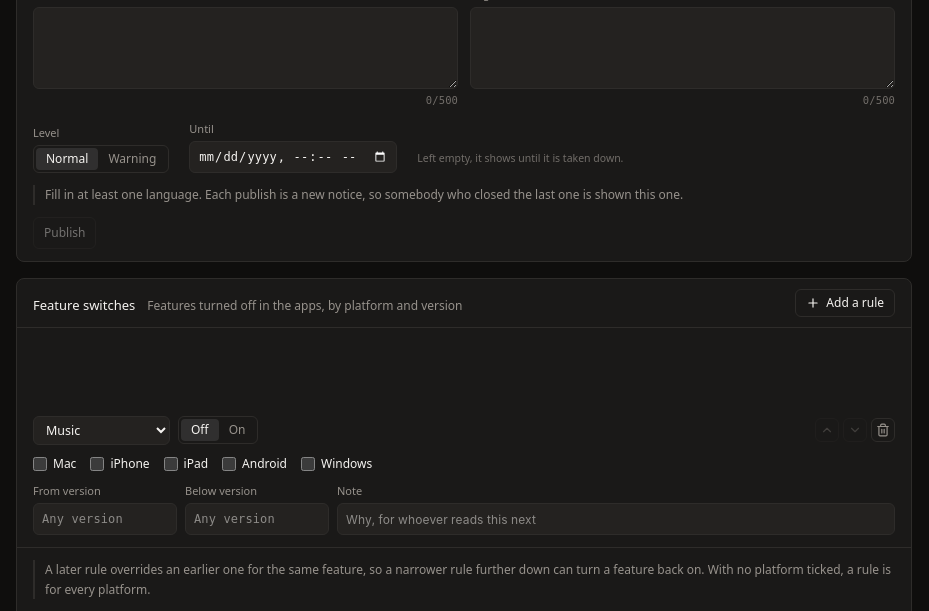
Scenario: the feature switches › are not saved with a version that is not one, and say when a range holds none
(page scrolled)
Type "next" into the field labelled "From version".
click(105, 519); type("next")  # box [33,503,177,535]
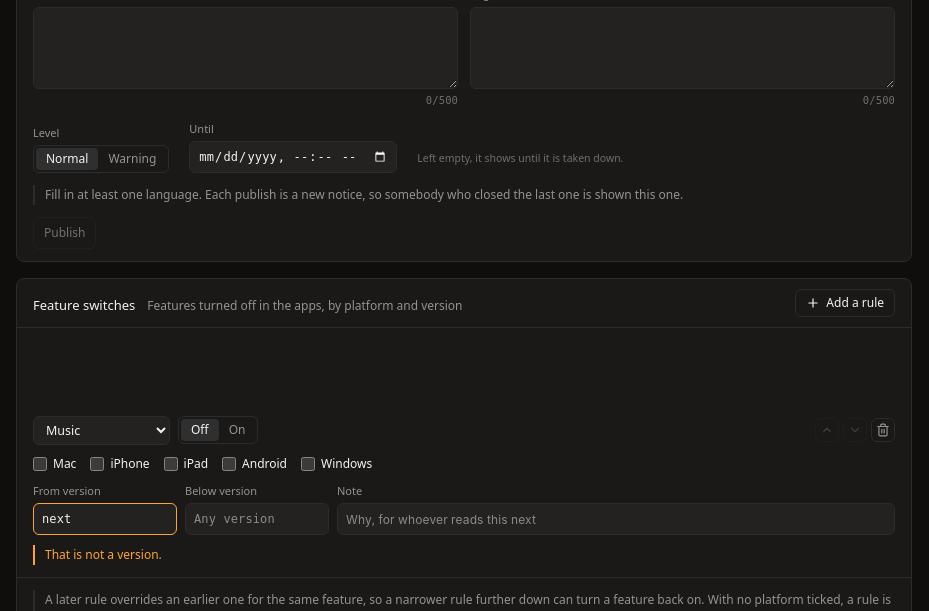
Result: the text "That is not a version." is shown at [33,545,895,564]
Replace the text in the field labelled "From version" with "0.1.5" at point(105, 519), box [33,503,177,535]
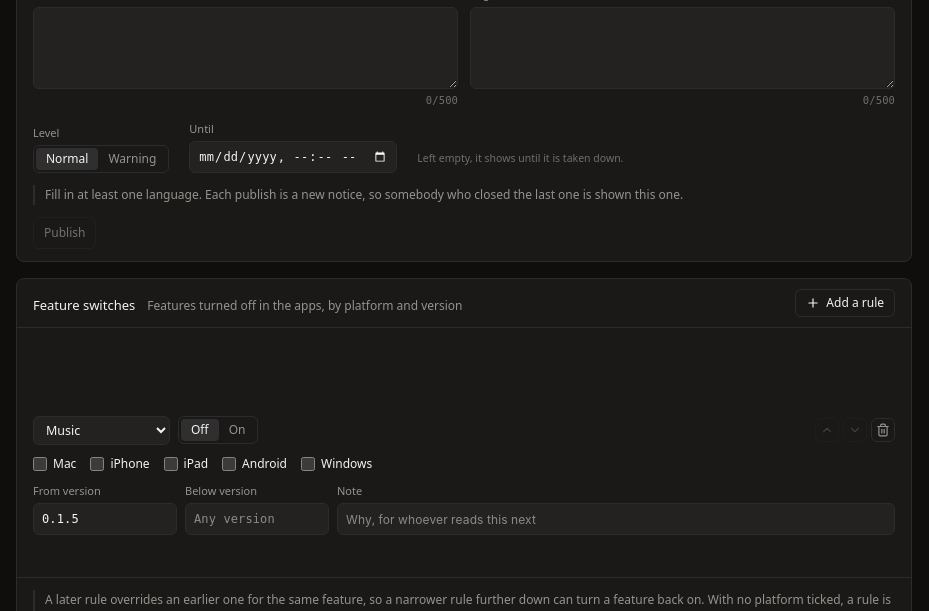
Type "0.1.4.2" into the field labelled "Below version".
click(257, 519); type("0.1.4.2")  # box [185,503,329,535]
(page scrolled)
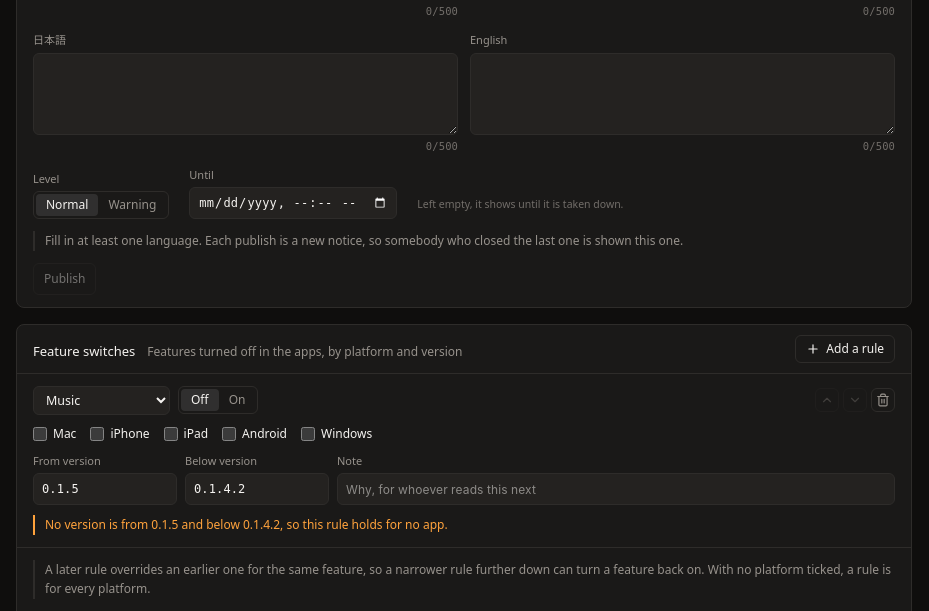
Result: the text "No version is from 0.1.5 and below 0.1.4.2, so this rule holds for no app." is shown at [33,515,895,534]
